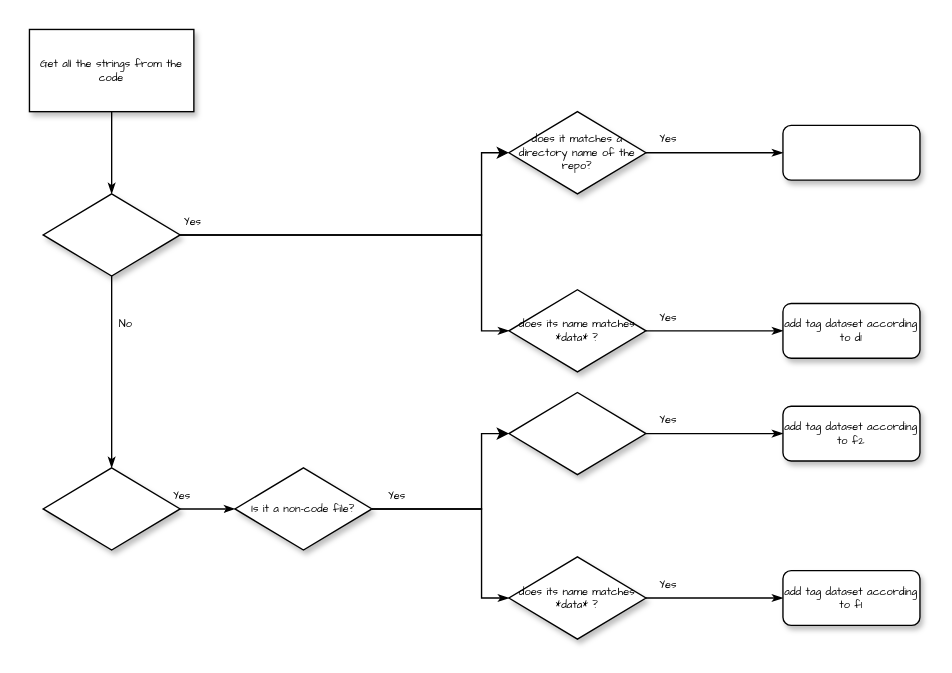
This 952x673 diagram has some shape labels left out. The centre of each missing label's shape, as x and y in pixels:
"add tag dataset according to d2" belongs at point (852, 154).
"does it matches a filename name of the repo?" belongs at point (578, 435).
"Is the string a directory?" belongs at point (112, 236).
"Is the string a file?" belongs at point (112, 510).
